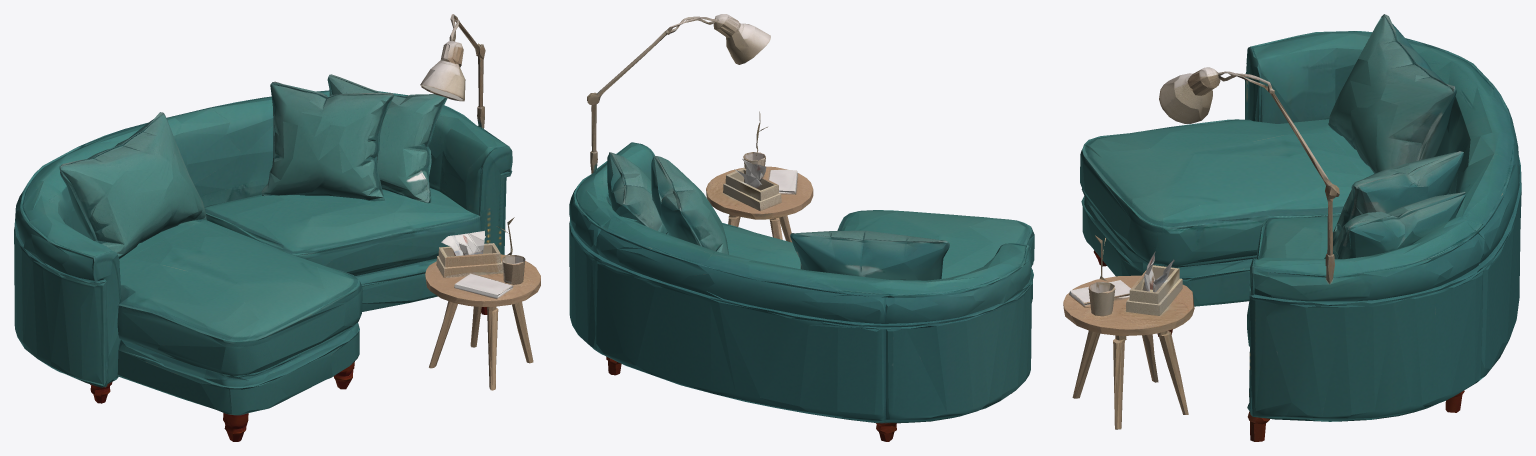
3 renders of one model, left to right at view 1: azimuth 30°, elevation 25°; view 2: azimuth 150°, elevation 25°; view 3: azimuth 270°, elevation 25°, orthographic. The views are drawn at different scales.
Bounding box in the file's own units: 1.89 × 1.22 × 1.47.
Materials: 1 (1 with a texture image).
